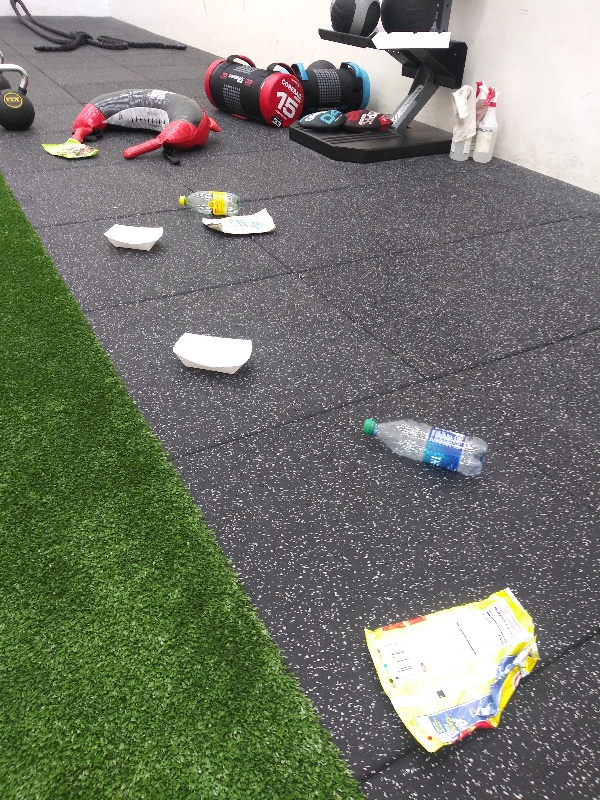bag: (359, 584, 554, 757), (199, 202, 281, 240), (39, 135, 103, 161)
bottle: (358, 416, 490, 481), (172, 189, 246, 218)
plate: (168, 326, 260, 378), (100, 220, 172, 256)
